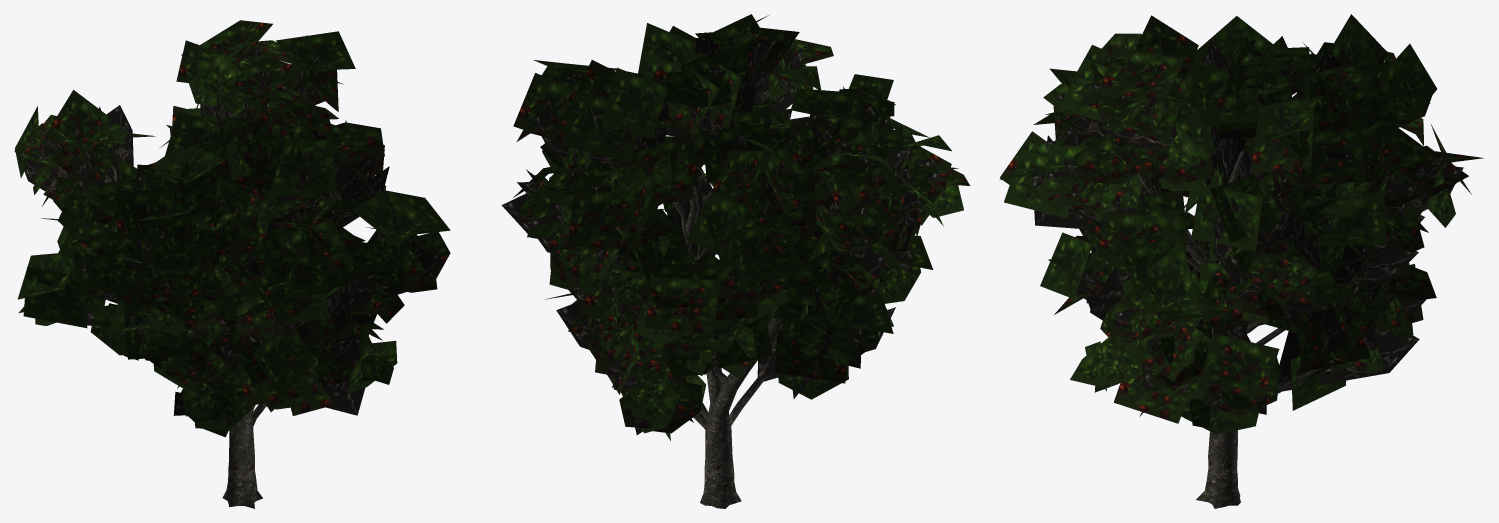
The model's file is arbol.obj.
3 renders of one model, left to right at view 1: azimuth 30°, elevation 25°; view 2: azimuth 150°, elevation 25°; view 3: azimuth 270°, elevation 25°, orthographic. The views are drawn at different scales.
Visible parts, largest first — view 1: LOD0; view 2: LOD0; view 3: LOD0.
Boxes of the visible parts, x1,y1,x2,y2 form: LOD0: [14, 20, 450, 508]; LOD0: [501, 14, 969, 508]; LOD0: [999, 14, 1484, 508].
Bounding box in the file's own units: 35.39 × 39.08 × 36.29.
1 material, 1 textured.
